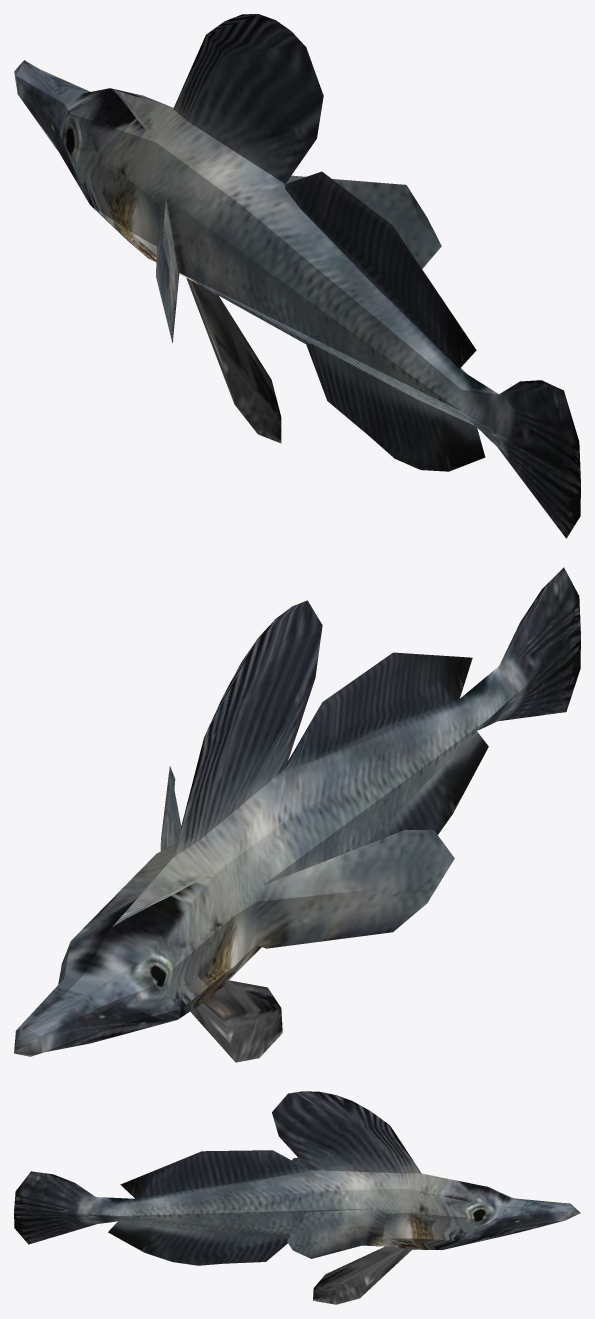
The model's file is Icefish_B.fbx.
The picture shows the model from 3 angles, top to bottom: view 1: azimuth 30°, elevation 25°; view 2: azimuth 150°, elevation 25°; view 3: azimuth 270°, elevation 25°; orthographic projection. The views are drawn at different scales.
Visible parts, largest first — view 1: pCylinder1; view 2: pCylinder1; view 3: pCylinder1.
Boxes of the visible parts, <box> form: pCylinder1: <box>14,14,580,538</box>; pCylinder1: <box>14,567,580,1062</box>; pCylinder1: <box>14,1091,580,1304</box>.
Size of the model in its own units: 0.7954 by 1.17 by 2.81.
Materials: 1 (1 with a texture image).
